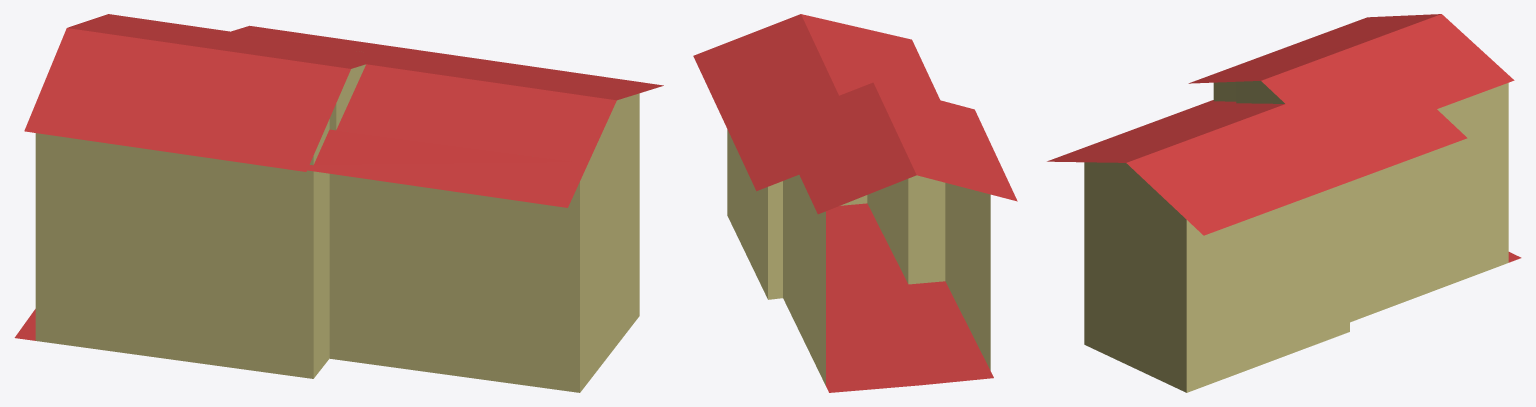
The picture shows the model from 3 angles, left to right: view 1: azimuth 30°, elevation 25°; view 2: azimuth 150°, elevation 25°; view 3: azimuth 270°, elevation 25°; orthographic projection. The views are drawn at different scales.
Parts seen in each view (by area): view 1: group_5, group_9, group_3, group_7, group_4; view 2: group_3, group_5, group_6, group_7, group_10, group_9, group_4; view 3: group_5, group_3, group_9, group_7, group_4.
Boxes of the visible parts, <box> form: group_5: <box>35,64,639,378</box>; group_9: <box>336,120,607,392</box>; group_3: <box>24,14,663,171</box>; group_7: <box>307,64,616,207</box>; group_4: <box>26,14,366,171</box>; group_3: <box>693,14,1017,213</box>; group_5: <box>727,129,990,385</box>; group_6: <box>826,260,993,392</box>; group_7: <box>801,14,939,99</box>; group_10: <box>826,203,906,287</box>; group_9: <box>840,179,907,281</box>; group_4: <box>784,104,1014,213</box>; group_5: <box>1132,81,1508,392</box>; group_3: <box>1126,14,1514,235</box>; group_9: <box>1084,162,1131,366</box>; group_7: <box>1047,100,1284,162</box>; group_4: <box>1191,16,1513,138</box>.
Bounding box in the file's own units: 14.78 × 14.15 × 7.14.
